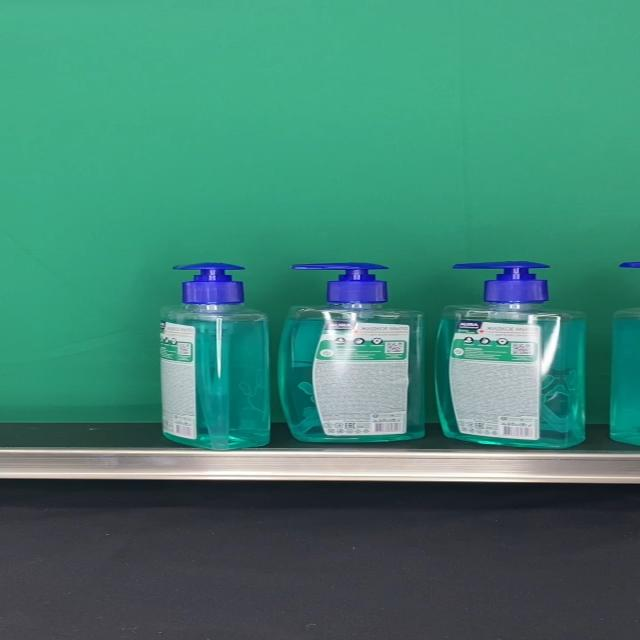Bottle: (436, 261, 586, 449), (278, 263, 424, 442), (159, 262, 269, 450)
Cap: (291, 263, 389, 305), (453, 262, 551, 303), (171, 262, 245, 304)
